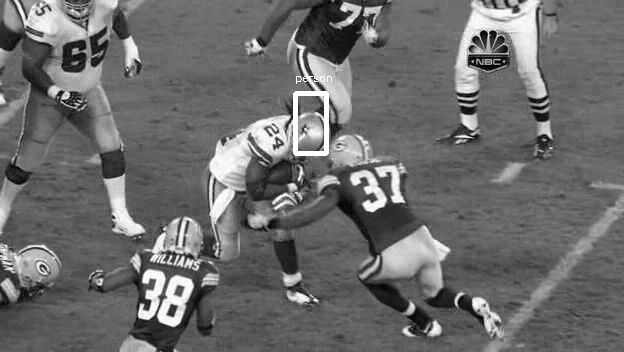person: (289, 116, 323, 159), (288, 116, 322, 159), (290, 116, 324, 159), (289, 115, 323, 158), (289, 117, 323, 160)
target_negative: (171, 7, 303, 244), (49, 189, 593, 236), (286, 168, 536, 267), (166, 36, 227, 171), (164, 112, 195, 260), (544, 134, 567, 210)
